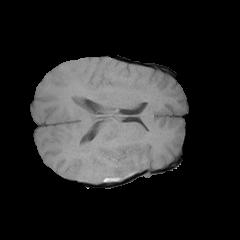glioma: (101, 147, 140, 181)
